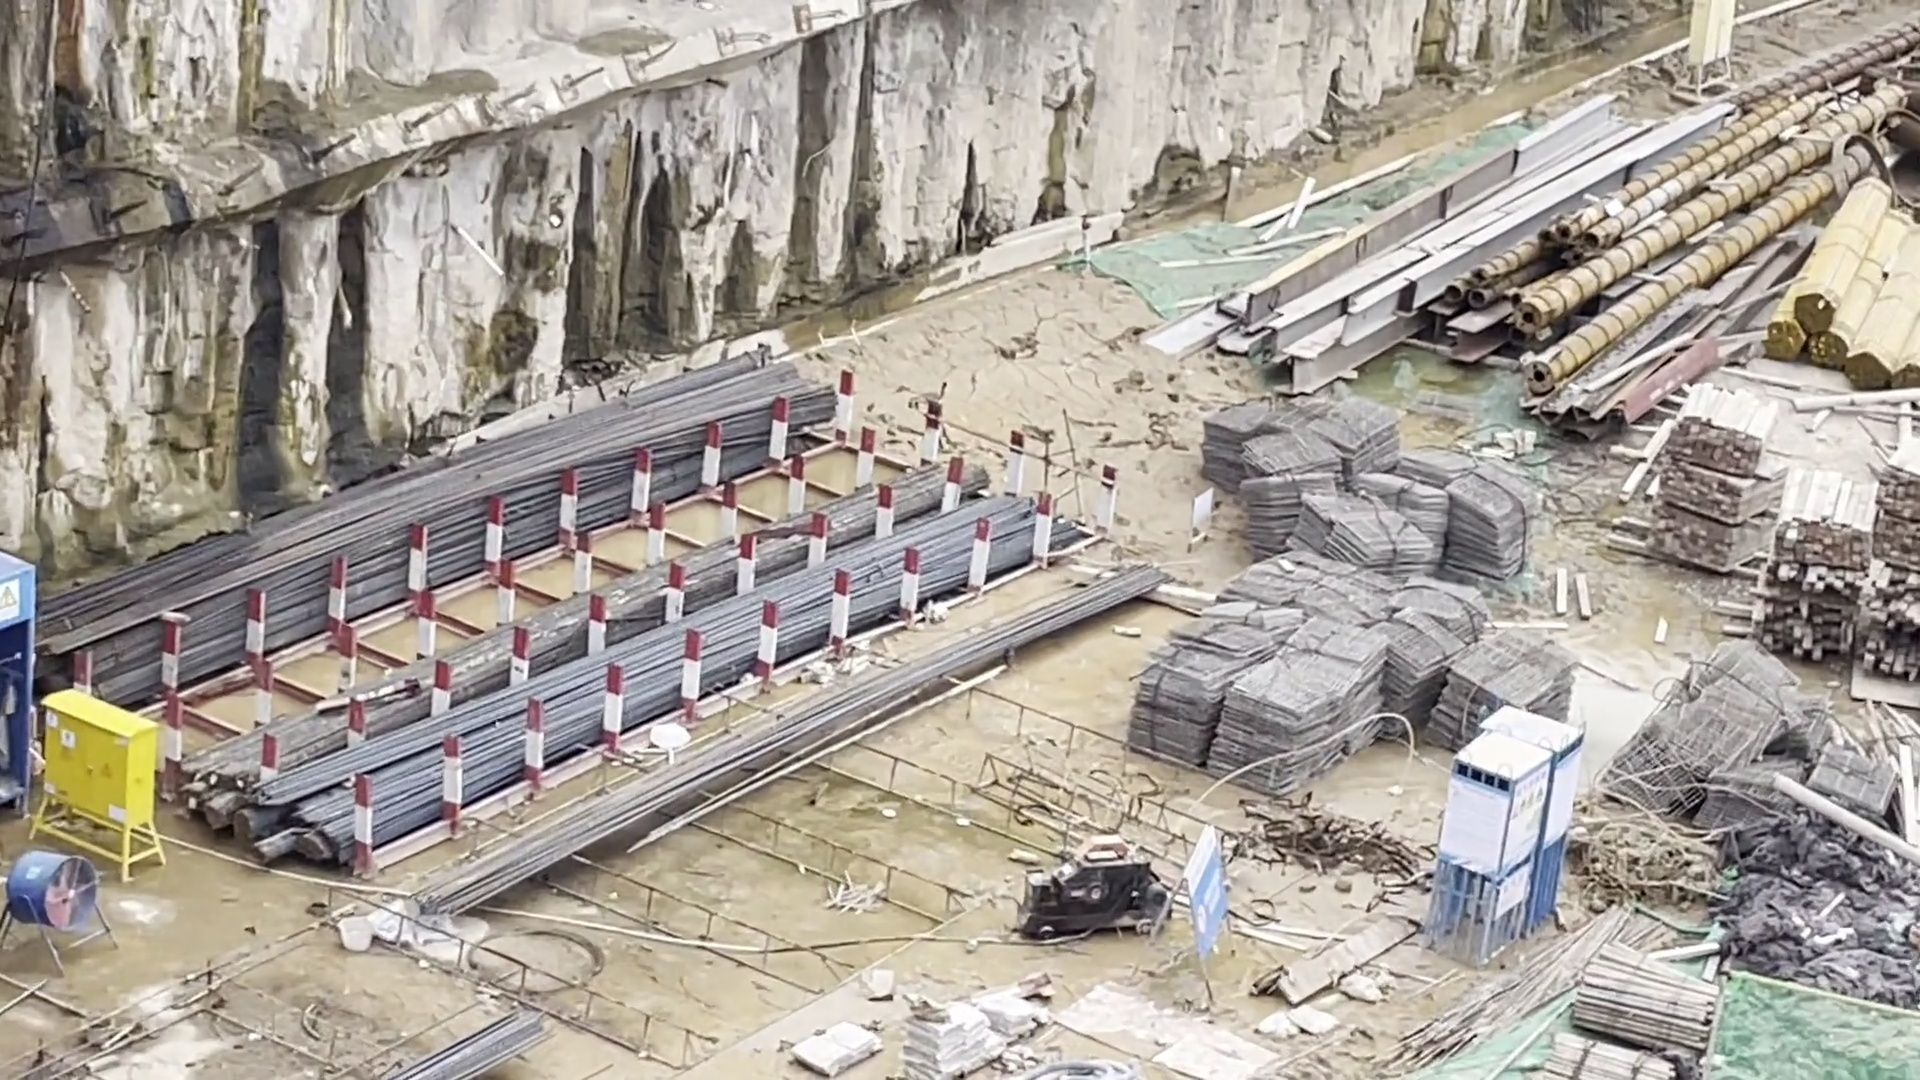ebox: (30, 687, 170, 880)
rebar: (44, 344, 1183, 886)
wood: (1648, 377, 1920, 676)
